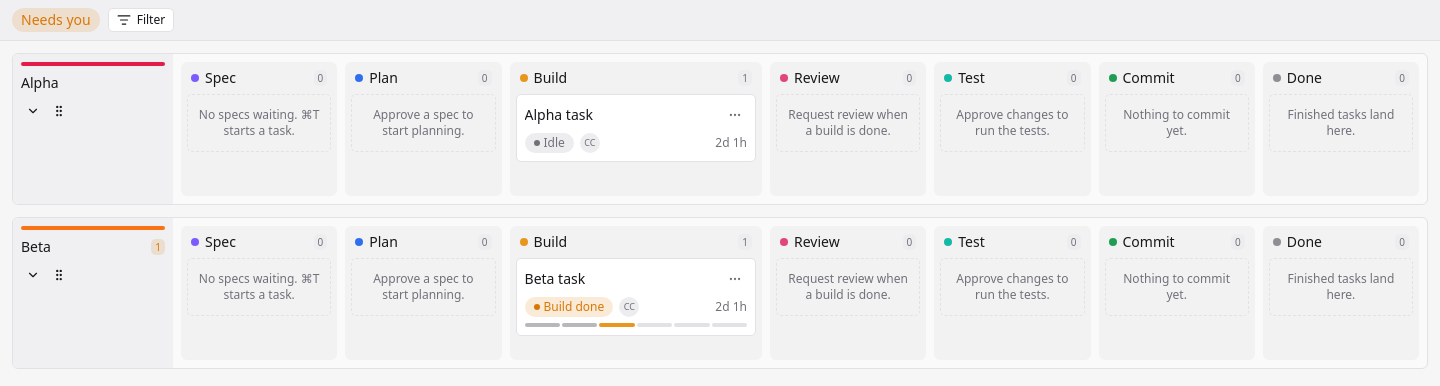
Test case: Swimlanes › collapsing a row hides its columns and remembers it
The width and height of the screenshot is (1440, 386).
What coordinates should you click on to do the following:
click the button named "Collapse Alpha"
I would click on:
 (33, 111)
Its box is [21,99,45,123].
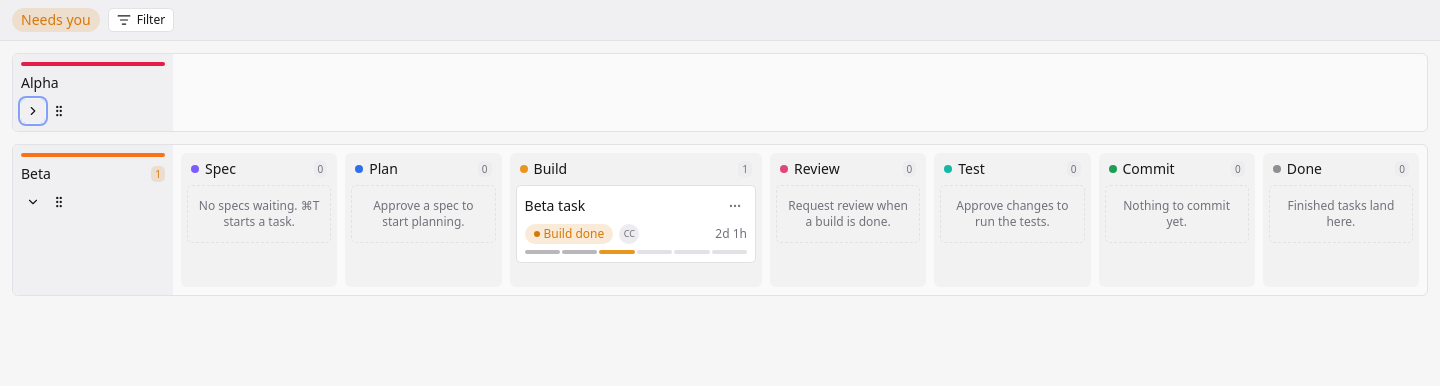
Expected: the text "Beta task" is shown, [524,196,585,215]
Result: the text "Alpha task" is gone
What coordinates should you click on to do the following:
click the button named "Expand Alpha"
I would click on:
 (33, 111)
Its box is [21,99,45,123].
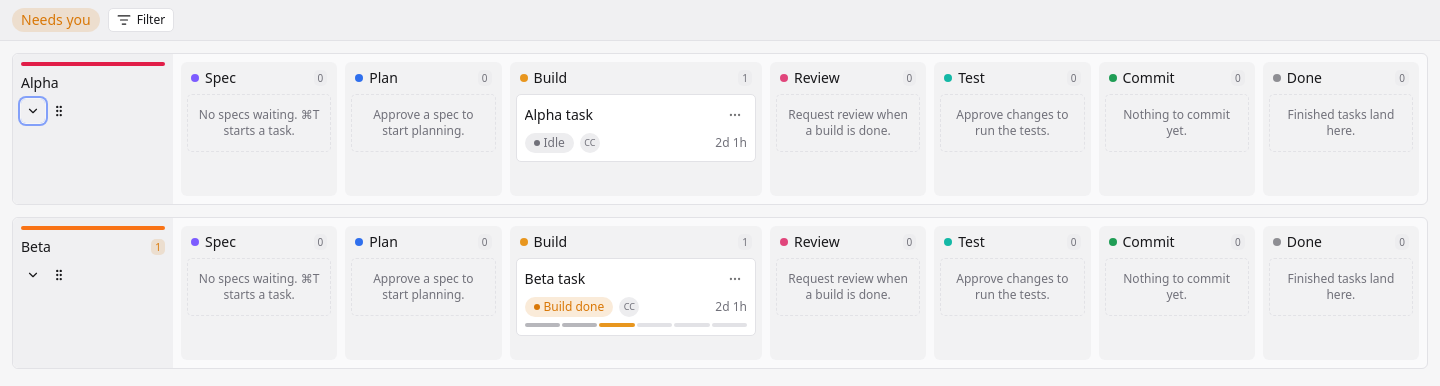
Result: the text "Alpha task" is shown at [524,105,593,124]
